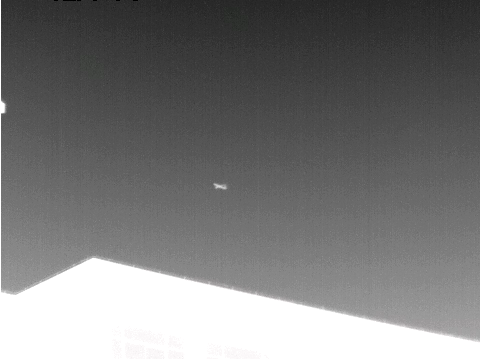dim target: (212, 179, 227, 191)
